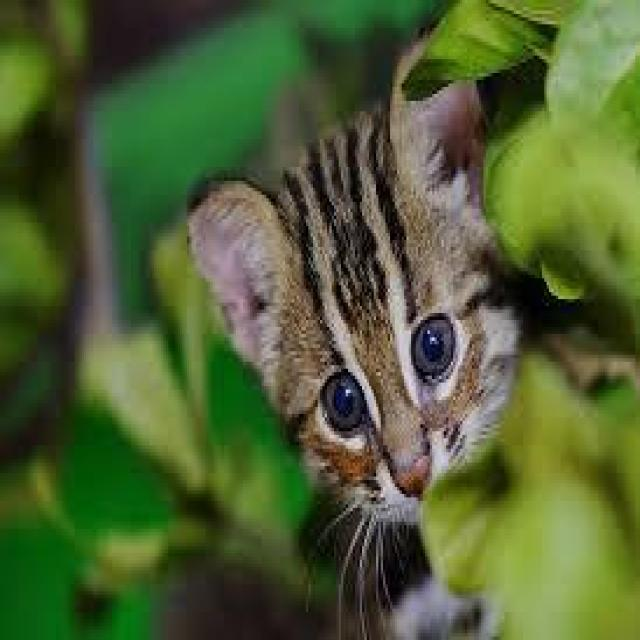leopard: (160, 76, 534, 528)
